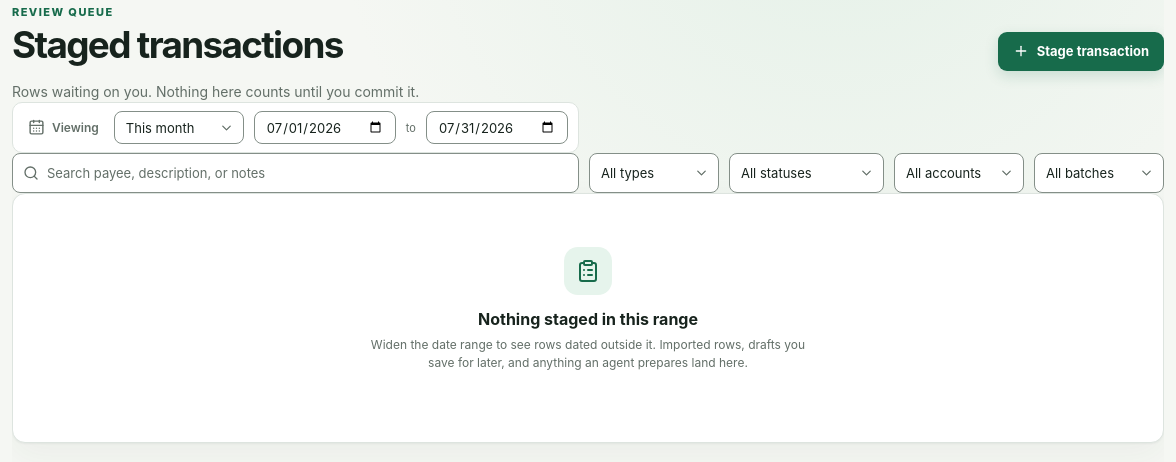
Test case: staged queue type filter › sends the chosen type and names itself as the way out of an empty queue
Expected: the heading "Nothing staged in this range" is shown, x1=478 y1=309 x2=698 y2=329
Expected: the text "Widen the date range to see rows dated outside it" is shown, x1=371 y1=337 x2=805 y2=370
Step 1. Select "Transfers" in the dropdown named "Filter by type" → (654, 173), box x1=589 y1=153 x2=719 y2=193
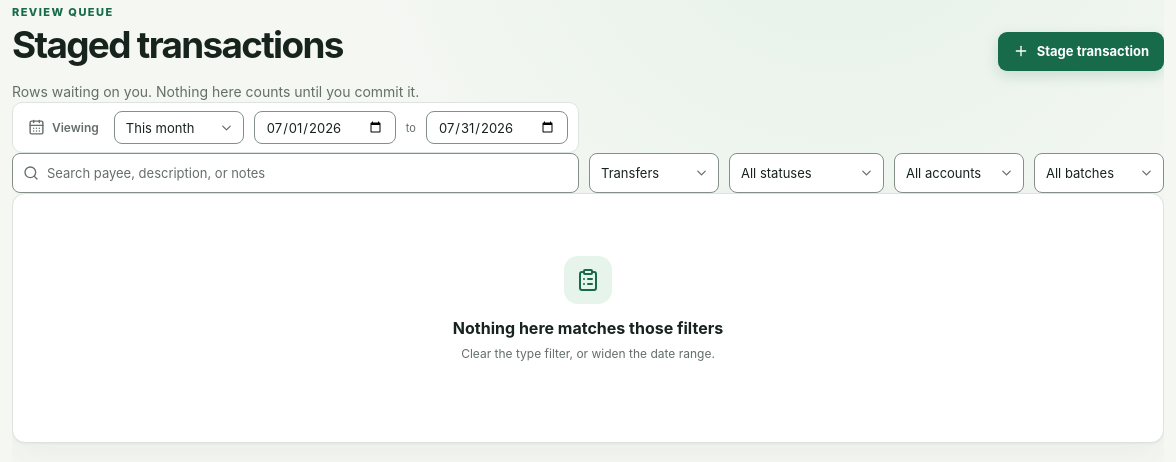
Expected: the heading "Nothing here matches those filters" is shown, x1=453 y1=318 x2=723 y2=338
Expected: the text "Clear the type filter, or widen the date range." is shown, x1=461 y1=345 x2=715 y2=364
